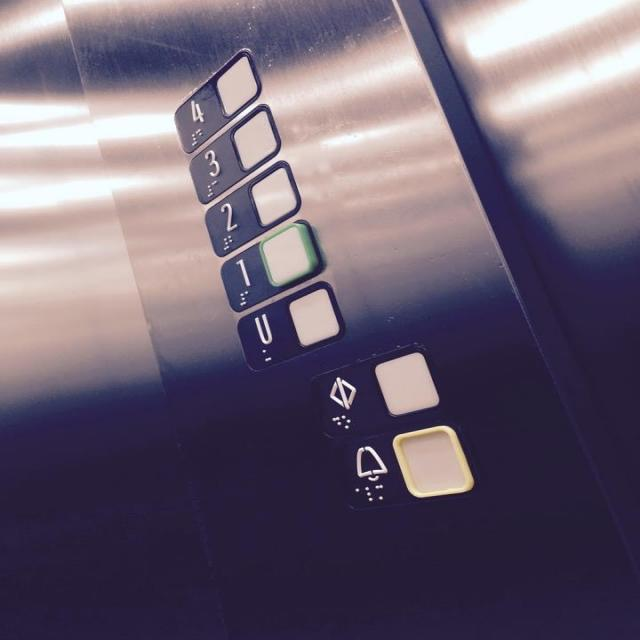1: (219, 216, 327, 314)
2: (202, 157, 303, 259)
3: (185, 100, 284, 206)
4: (172, 45, 263, 154)
U: (234, 278, 343, 374)
alarm: (327, 416, 484, 514)
open: (306, 339, 450, 442)
